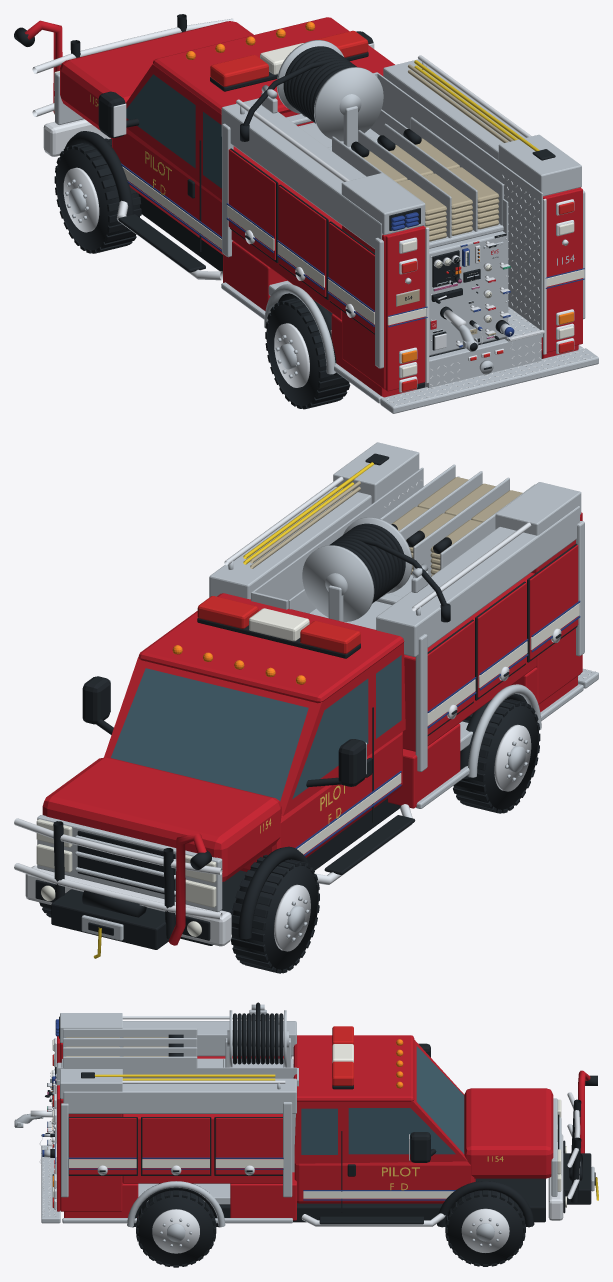
3 renders of one model, top to bottom at view 1: azimuth 30°, elevation 25°; view 2: azimuth 150°, elevation 25°; view 3: azimuth 270°, elevation 25°, orthographic. The views are drawn at different scales.
Visible parts, largest first — view 1: Right containers inner wall, Upper tool box, Hood, Cab roof, Rear panel backing, Rear tower end red face, Rear tower end red face.001, Cab lower, Rear step, Front side window, Hose reel flange, Upper tool box.001 (+57 smaller); view 2: Wide windshield, Hood, Cab roof, Upper tool box, Extended cab shell, Cab lower, Upper tool box.001, Front side window, Hose reel flange.001, Compartment red door.001, Compartment red door.002, All terrain tire (+47 smaller); view 3: Hood, Cab roof, Upper tool box.001, Cab lower, Extended cab shell, Front side window.001, Frame, Compartment red door.005, Compartment red door.003, Compartment red door.004, Wide windshield, All terrain tire.003 (+47 smaller).
Part boxes in pixels (<box>): Right containers inner wall: <box>377,73,542,329</box>; Upper tool box: <box>221,98,382,248</box>; Hood: <box>60,21,253,138</box>; Cab roof: <box>153,17,394,114</box>; Rear panel backing: <box>429,231,506,355</box>; Rear tower end red face: <box>385,226,425,391</box>; Rear tower end red face.001: <box>542,188,582,352</box>; Cab lower: <box>112,128,222,254</box>; Rear step: <box>380,348,598,413</box>; Front side window: <box>126,74,195,168</box>; Hose reel flange: <box>314,67,383,141</box>; Upper tool box.001: <box>383,59,525,160</box>; Wide windshield: <box>111,668,308,801</box>; Hood: <box>42,757,281,881</box>; Cab roof: <box>138,593,404,703</box>; Upper tool box: <box>376,506,579,656</box>; Extended cab shell: <box>104,643,405,815</box>; Cab lower: <box>240,731,402,871</box>; Upper tool box.001: <box>209,486,371,599</box>; Front side window: <box>292,678,368,799</box>; Hose reel flange.001: <box>302,545,374,621</box>; Compartment red door.001: <box>477,583,526,697</box>; Compartment red door.002: <box>529,545,578,659</box>; All terrain tire: <box>232,857,318,971</box>; Hood: <box>464,1088,553,1178</box>; Cab roof: <box>293,1035,414,1101</box>; Upper tool box.001: <box>63,1078,296,1113</box>; Cab lower: <box>294,1161,475,1203</box>; Extended cab shell: <box>294,1040,467,1163</box>; Front side window.001: <box>348,1108,455,1154</box>; Frame: <box>219,1178,545,1222</box>; Compartment red door.005: <box>69,1118,136,1174</box>; Compartment red door.003: <box>215,1118,282,1174</box>; Compartment red door.004: <box>142,1118,209,1174</box>; Wide windshield: <box>416,1046,464,1153</box>; All terrain tire.003: <box>137,1190,215,1266</box>.
Size of the model in its own units: 2.89 by 2.98 by 7.56.
